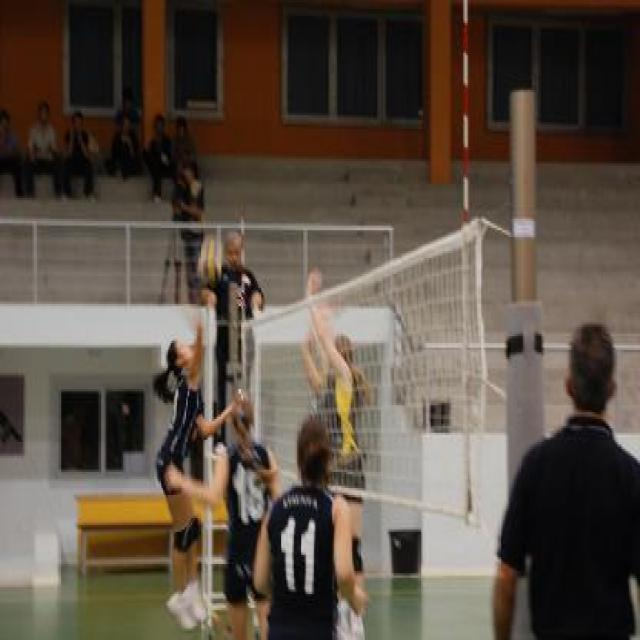volleyball: (197, 238, 224, 282)
